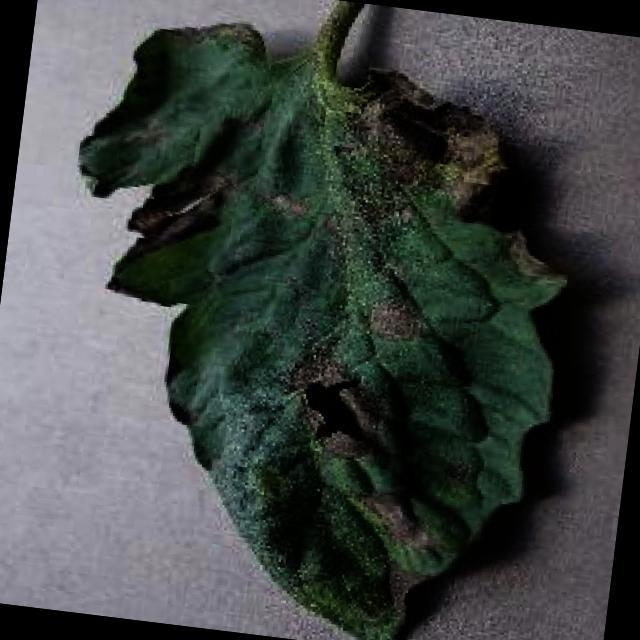Tomato Early blight leaf: (20, 2, 594, 640)
